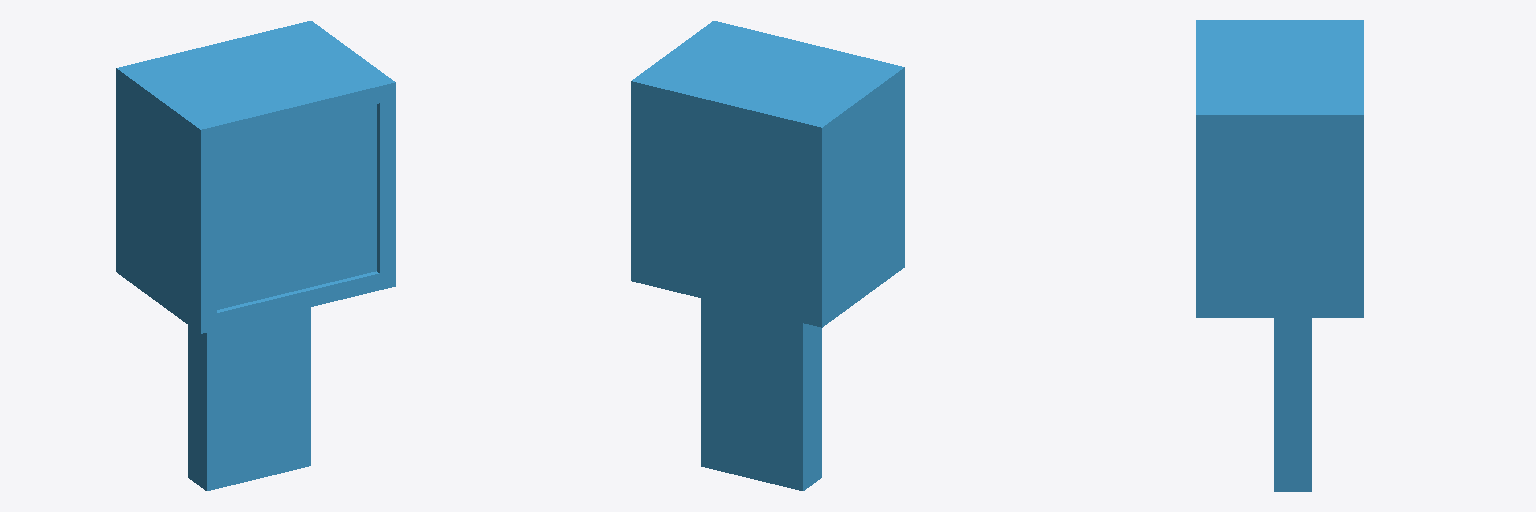
robot.urdf — gelstereo:
<?xml version="1.0" encoding="utf-8"?>

<robot name="gelstereo">
        <link name="world">
        </link>

        <joint name="world_to_frame" type="fixed">
                <parent link="world"/>
                <child link="frame"/>
                <origin rpy="0.0 0.0 0.0" xyz="0.0 0.0 0.0"/>
        </joint>

        <link name="frame">
		<visual>
                        <origin rpy="0.0 0.0 0.0" xyz="0.0 0.0 0.0"/>
                        <geometry>
				<mesh filename="../meshes/visual/frame_v0.2.stl" scale="0.001 0.001 0.001"/>
                        </geometry>
                </visual>
                <collision>
                        <origin rpy="0.0 0.0 0.0" xyz="0.0 0.0 0.0"/>
                        <geometry>
				<mesh filename="../meshes/collision/frame_v0.2.stl" scale="0.001 0.001 0.001"/>
                        </geometry>
                </collision>
                <!-- <inertial>
                        <origin rpy="0.0 0.0 0.0" xyz="-5.76186e-3 -0.78412e-3 0.00005e-3"/>
                        <mass value="0.00165412"/>
                        <inertia ixx="0.01956e-6" iyy="0.08665e-6" izz="0.08404e-6" ixy="0.0021e-6" ixz="0.0" iyz="0.0"/>
                </inertial> -->
	</link>

	<joint name="frame_to_gel" type="fixed">
		<parent link="frame"/>
		<child link="gel"/>
		<origin rpy="0.0 0.0 0.0" xyz="0.0 0.0 0.0"/>
	</joint>

        <link name="gel">
                <fem>
			<origin rpy="0.0 0.0 0.0" xyz="0.0 0.0 0.0"/>
			<density value="1000"/>
			<youngs value="1e5"/>
			<poissons value="0.3223"/>
			<damping value="0.0"/>
			<attachDistance value="1.0e-5"/>
                        <!-- <attachDistance value="0.01"/> -->
			<tetmesh filename="../meshes/collision/gel_0.2.tet"/>
                        <scale value="0.001"/>
		</fem>
        </link>
</robot>

--- Render facts (derived) ---
Views: 3 orthographic renders of the robot side by side, from view 1: azimuth 30°, elevation 25°; view 2: azimuth 150°, elevation 25°; view 3: azimuth 270°, elevation 25°.
Model gelstereo with 3 links and 2 joints (2 fixed), rooted at world, posed every joint at zero.
Visible links, largest first — view 1: frame; view 2: frame; view 3: frame.
Link boxes in pixels (x1,y1,x2,y2): frame: [116, 21, 395, 490]; frame: [631, 21, 904, 490]; frame: [1196, 20, 1363, 491].
Bounding box of the posed robot: 0.03 × 0.0225 × 0.059 m (x, y, z).
1 mesh visuals loaded from 1 distinct referenced files (1 binary STL).
